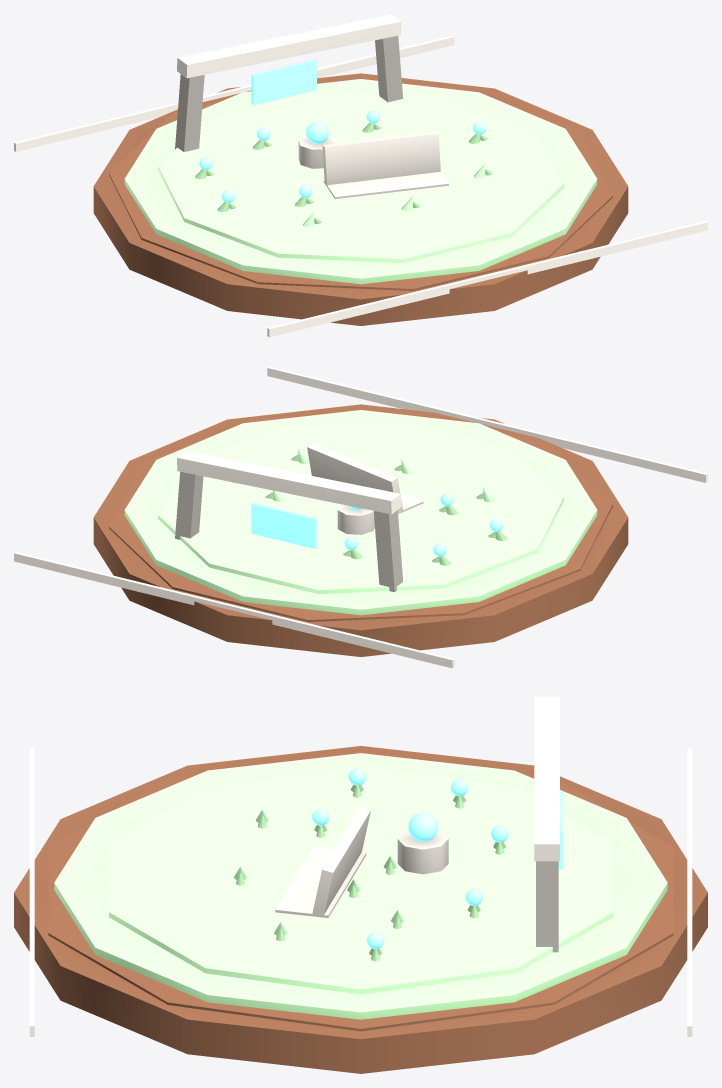
The model's file is garden.glb.
3 renders of one model, top to bottom at view 1: azimuth 30°, elevation 25°; view 2: azimuth 150°, elevation 25°; view 3: azimuth 270°, elevation 25°, orthographic. The views are drawn at different scales.
Parts seen in each view (by area): view 1: garden:far:surface:1, garden:near:surface:3, garden:near:surface:0, garden:near:surface:1, garden:far:surface:0, garden:near:surface:2; view 2: garden:far:surface:1, garden:near:surface:0, garden:near:surface:1, garden:near:surface:3, garden:far:surface:0, garden:near:surface:2; view 3: garden:far:surface:1, garden:near:surface:0, garden:near:surface:1, garden:near:surface:3, garden:far:surface:0, garden:near:surface:2.
Boxes of the visible parts, bbox=[...] form: garden:far:surface:1: bbox=[158, 90, 563, 262]; garden:near:surface:3: bbox=[14, 14, 707, 337]; garden:near:surface:0: bbox=[93, 73, 628, 325]; garden:near:surface:1: bbox=[124, 79, 597, 284]; garden:far:surface:0: bbox=[109, 80, 612, 290]; garden:near:surface:2: bbox=[199, 59, 486, 203]; garden:far:surface:1: bbox=[158, 421, 563, 594]; garden:near:surface:0: bbox=[93, 404, 628, 656]; garden:near:surface:1: bbox=[124, 410, 597, 615]; garden:near:surface:3: bbox=[14, 366, 707, 668]; garden:far:surface:0: bbox=[109, 410, 612, 621]; garden:near:surface:2: bbox=[251, 493, 502, 556]; garden:far:surface:1: bbox=[109, 765, 612, 994]; garden:near:surface:0: bbox=[14, 746, 707, 1073]; garden:near:surface:1: bbox=[54, 753, 667, 1019]; garden:near:surface:3: bbox=[29, 697, 692, 1036]; garden:far:surface:0: bbox=[48, 751, 673, 1031]; garden:near:surface:2: bbox=[312, 768, 563, 949].
Size of the model in its own units: 19 by 4.91 by 19.
